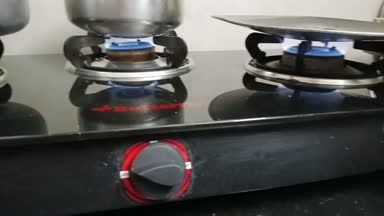flame_gas_on: (78, 27, 194, 201), (266, 33, 374, 79)
